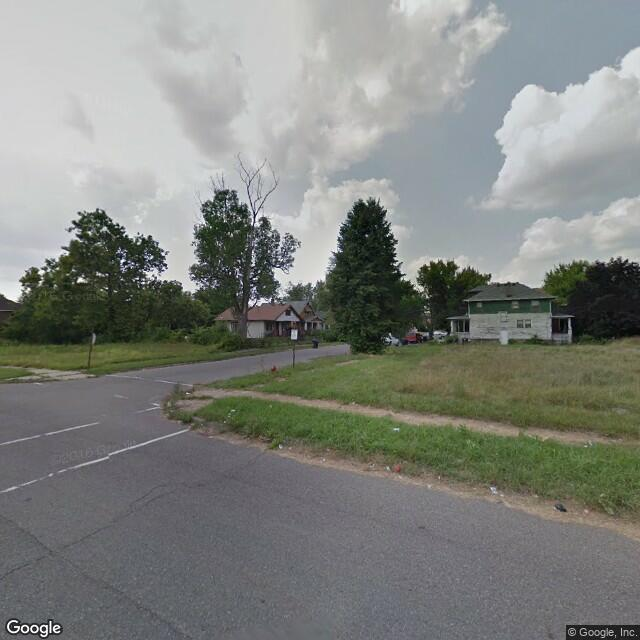litter: (555, 502, 569, 514), (488, 486, 503, 496), (392, 462, 403, 473), (277, 441, 285, 454), (392, 425, 400, 433), (265, 402, 275, 408), (427, 484, 433, 489)
